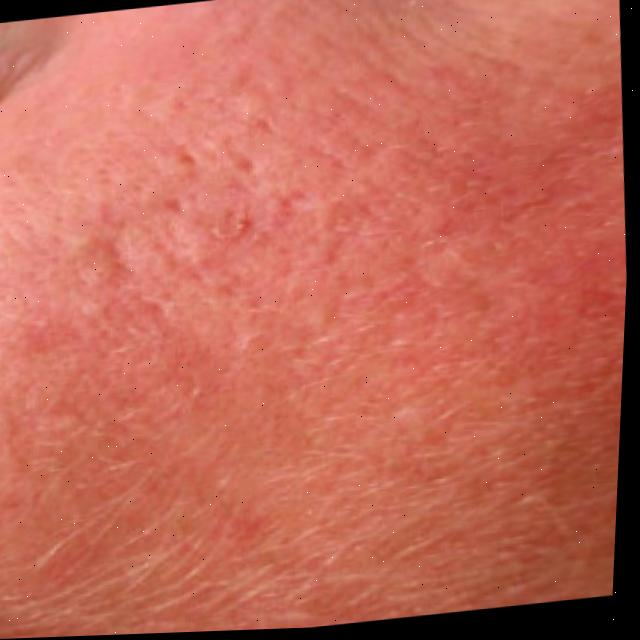Acne: (6, 2, 639, 598)
